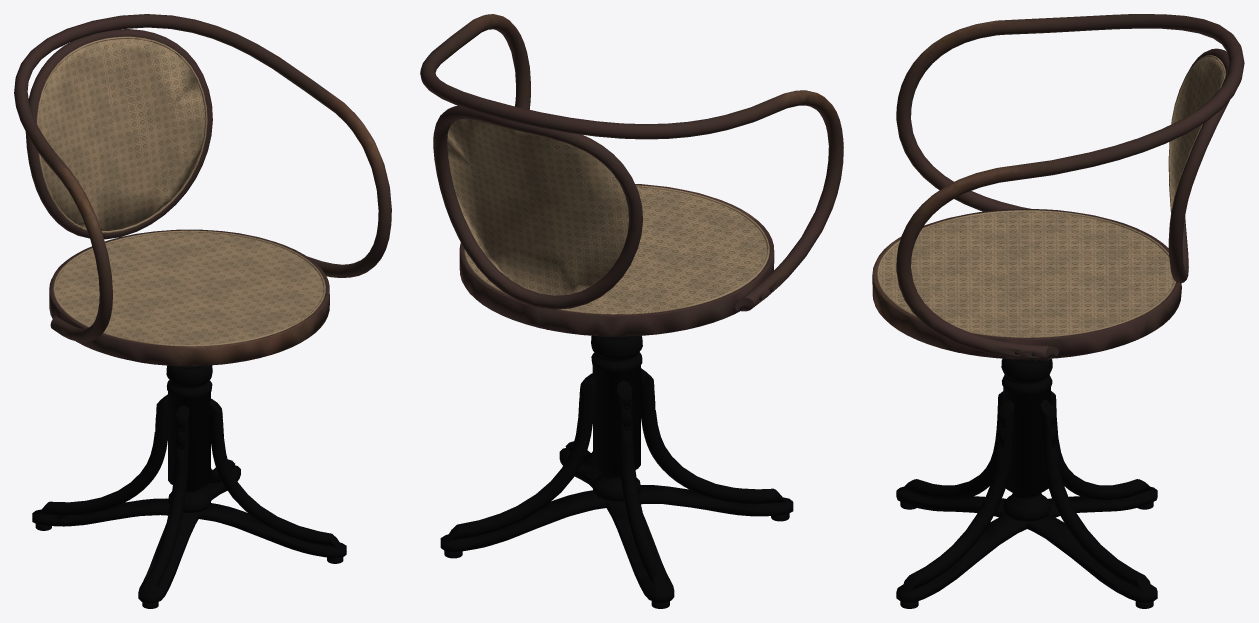
The model's file is armchair_swivel.glb.
The picture shows the model from 3 angles, left to right: view 1: azimuth 30°, elevation 25°; view 2: azimuth 150°, elevation 25°; view 3: azimuth 270°, elevation 25°; orthographic projection. The views are drawn at different scales.
Parts seen in each view (by area): view 1: Thonet 5501 Swivel Chair 1980; view 2: Thonet 5501 Swivel Chair 1980; view 3: Thonet 5501 Swivel Chair 1980.
Part boxes in pixels (x1,y1,x2,y2): Thonet 5501 Swivel Chair 1980: (14, 14, 391, 608); Thonet 5501 Swivel Chair 1980: (420, 14, 843, 608); Thonet 5501 Swivel Chair 1980: (872, 14, 1244, 608).
Bounding box in the file's own units: 0.9503 × 1.4 × 0.9474.
Materials: 3 (3 with a texture image).
